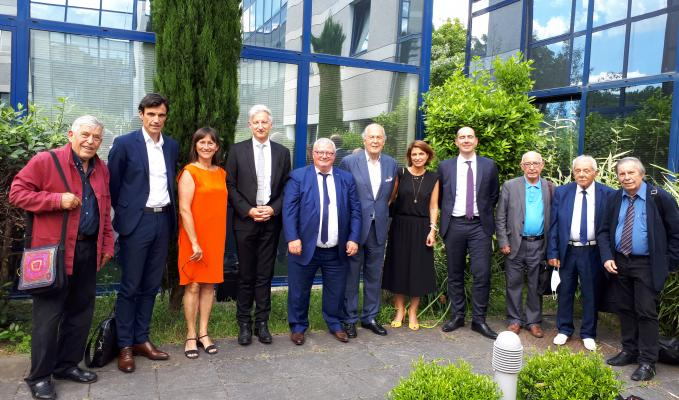without_mask: (77, 124, 101, 161), (249, 113, 275, 145), (517, 152, 547, 179), (196, 134, 218, 168), (143, 105, 166, 136), (452, 127, 478, 154), (312, 143, 337, 169), (617, 164, 640, 189), (573, 162, 596, 186), (365, 127, 385, 154), (410, 146, 427, 171)
